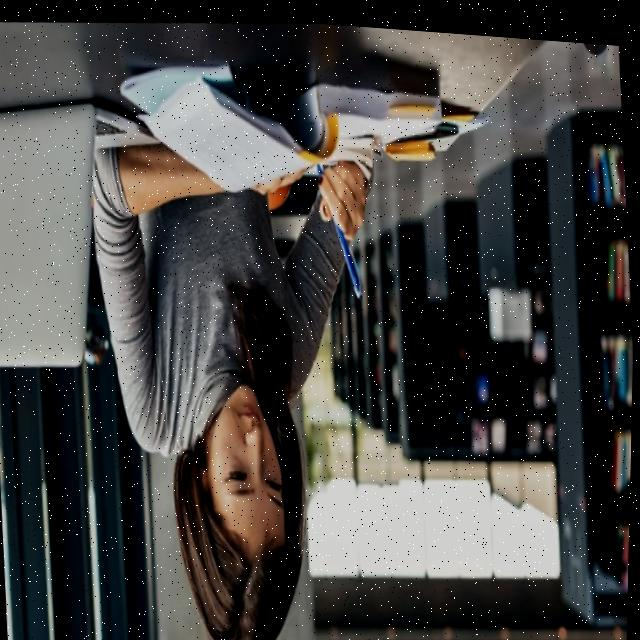studying-person: (66, 20, 530, 640)
